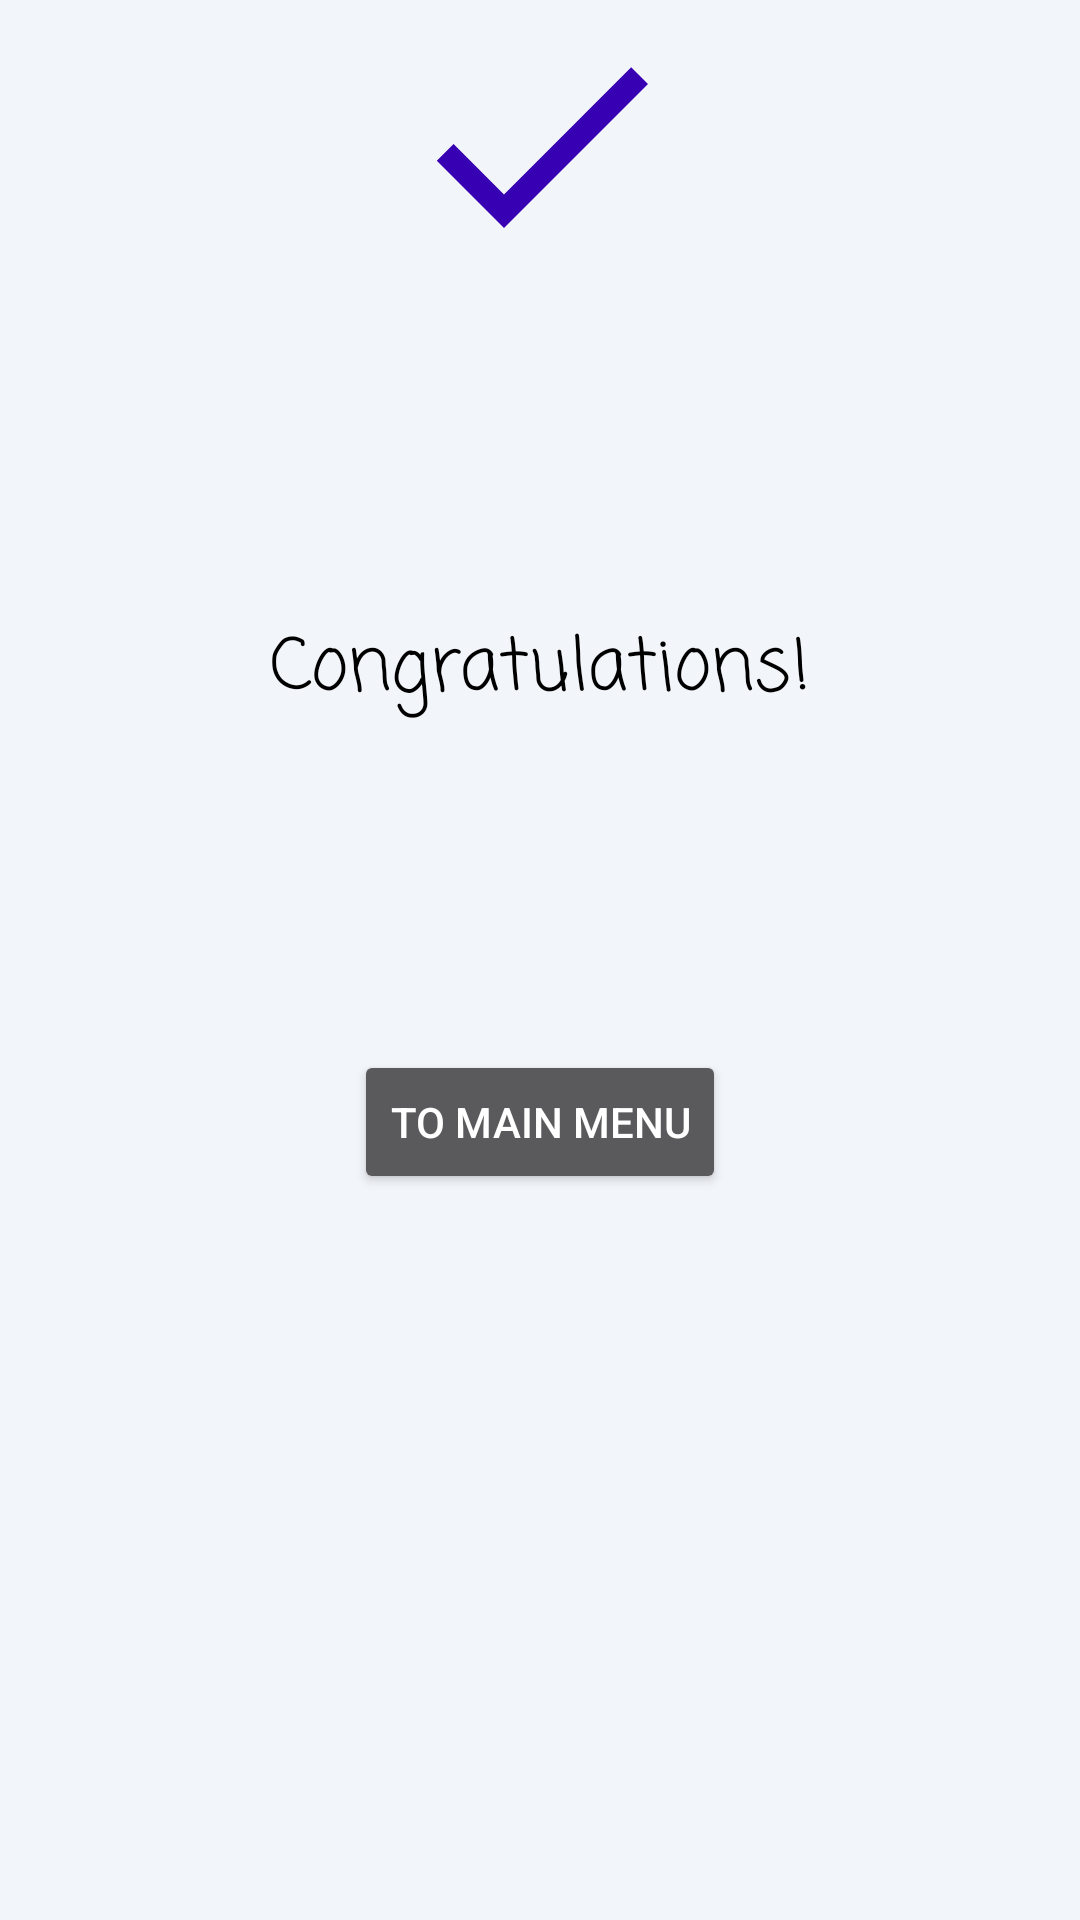

Where to tap for icons on this 1080px x 1920px app screen, as point (x, y):
Done icon: point (542, 147)
